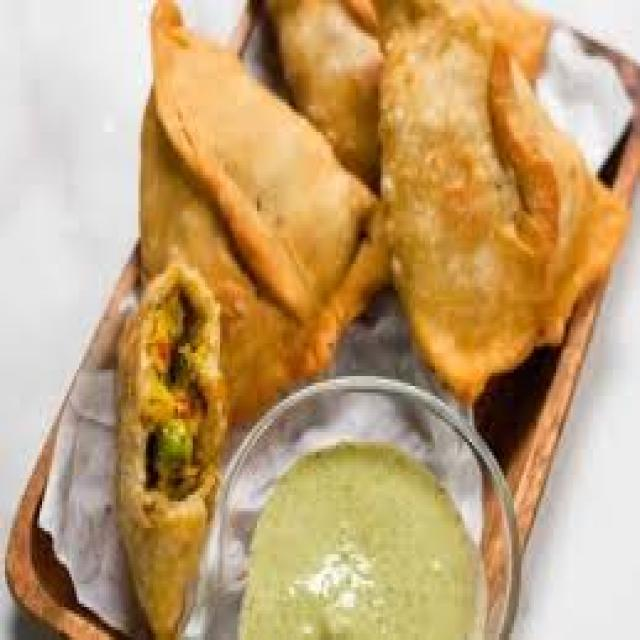SAMOSA: (146, 0, 393, 419), (377, 0, 633, 399), (116, 268, 225, 637)
